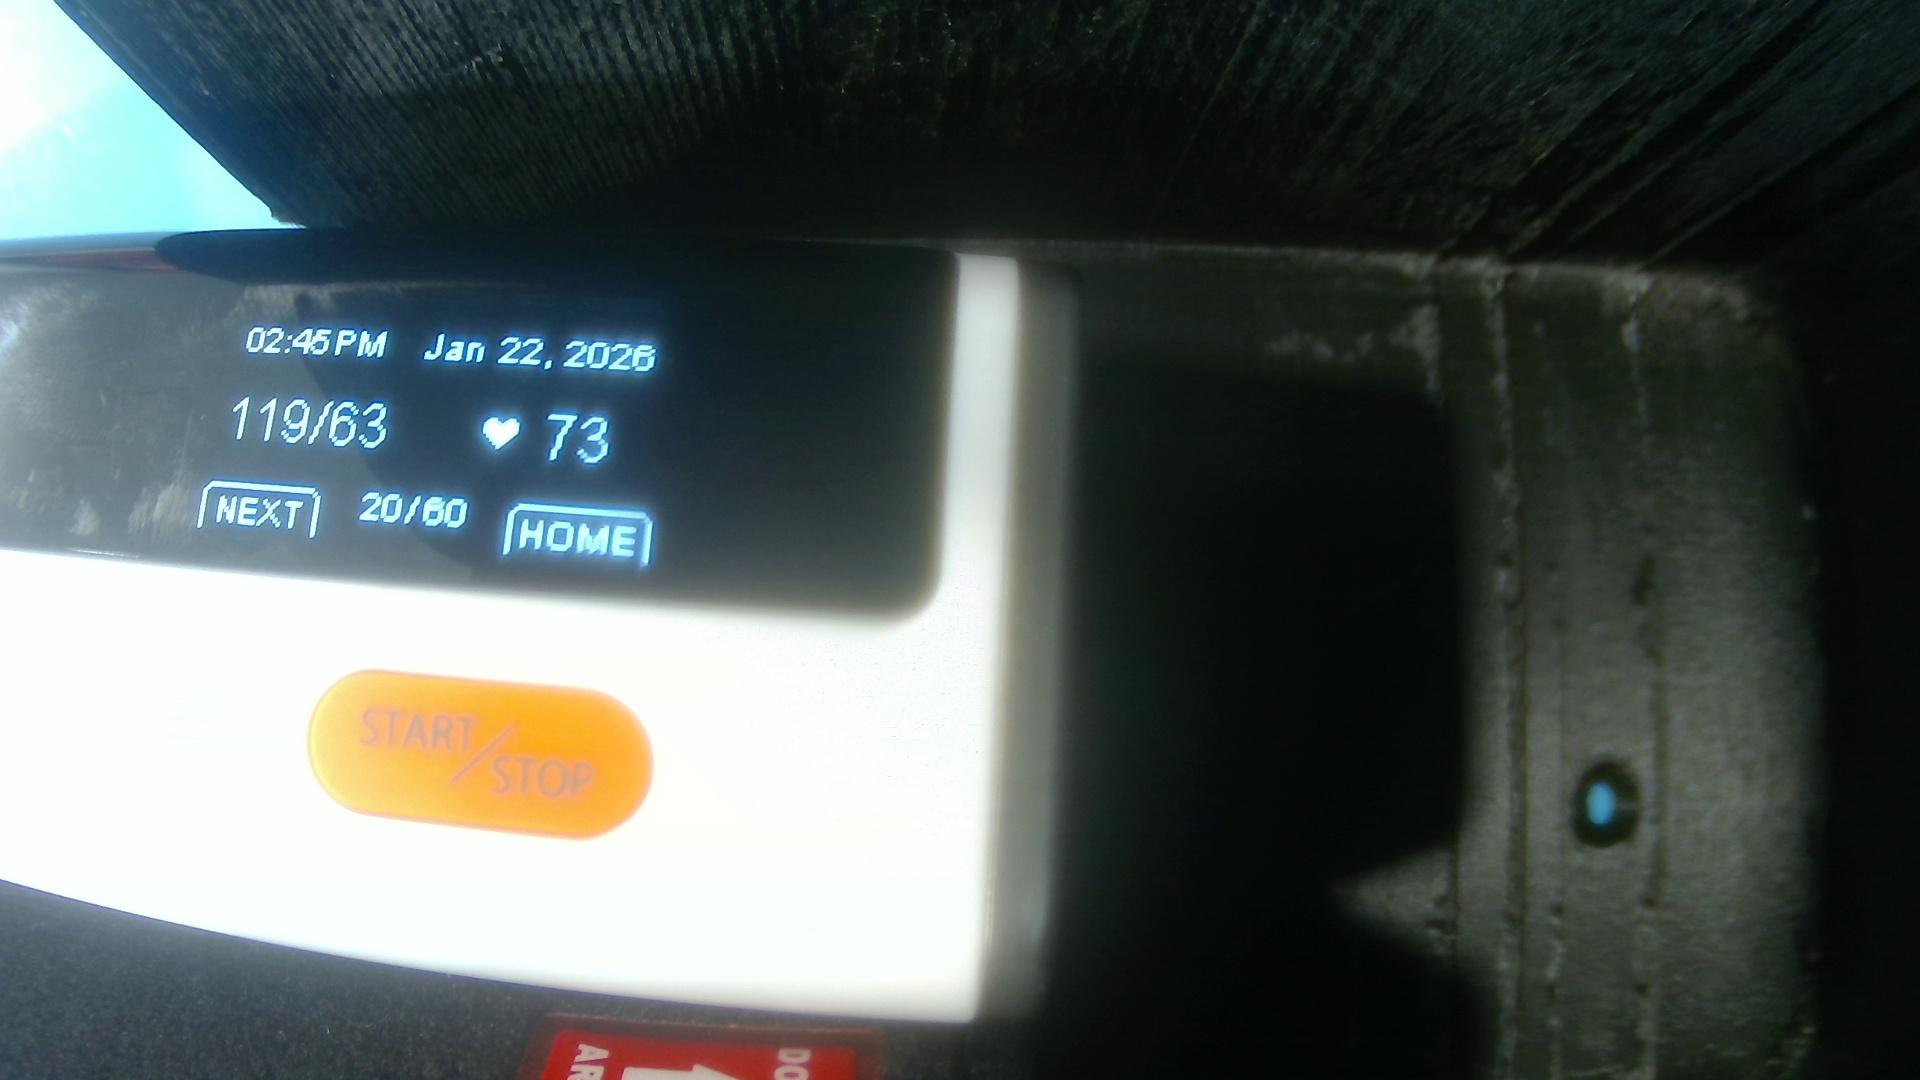DISPLAY: (7, 243, 945, 621)
